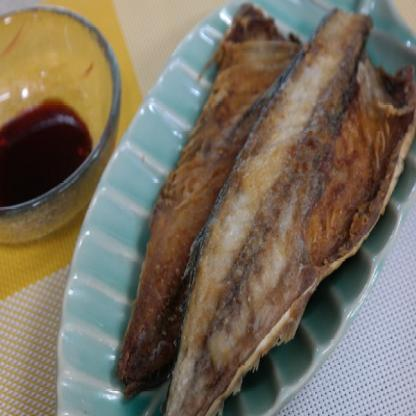Peixe: (112, 0, 416, 416)
